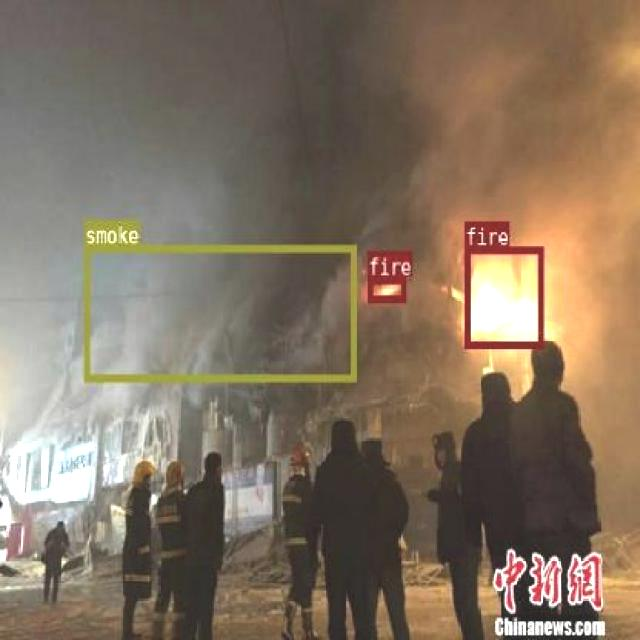fire: (463, 245, 543, 347), (366, 276, 404, 301)
smoke: (82, 243, 356, 379)
